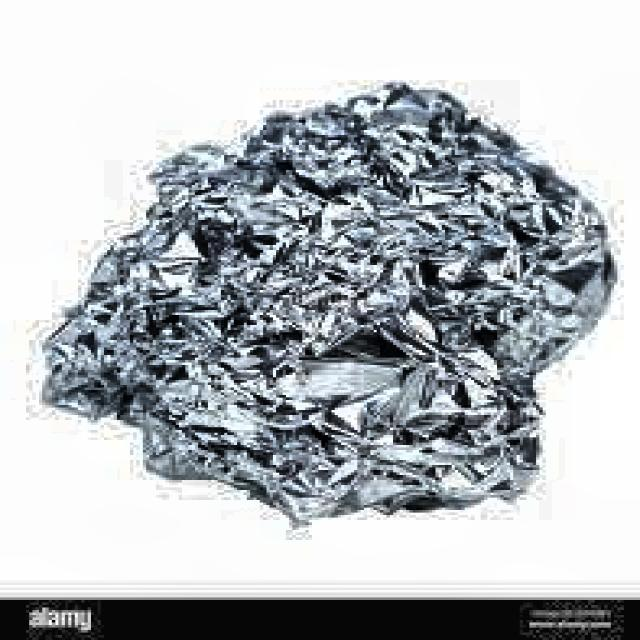Foil: (0, 73, 640, 532)
